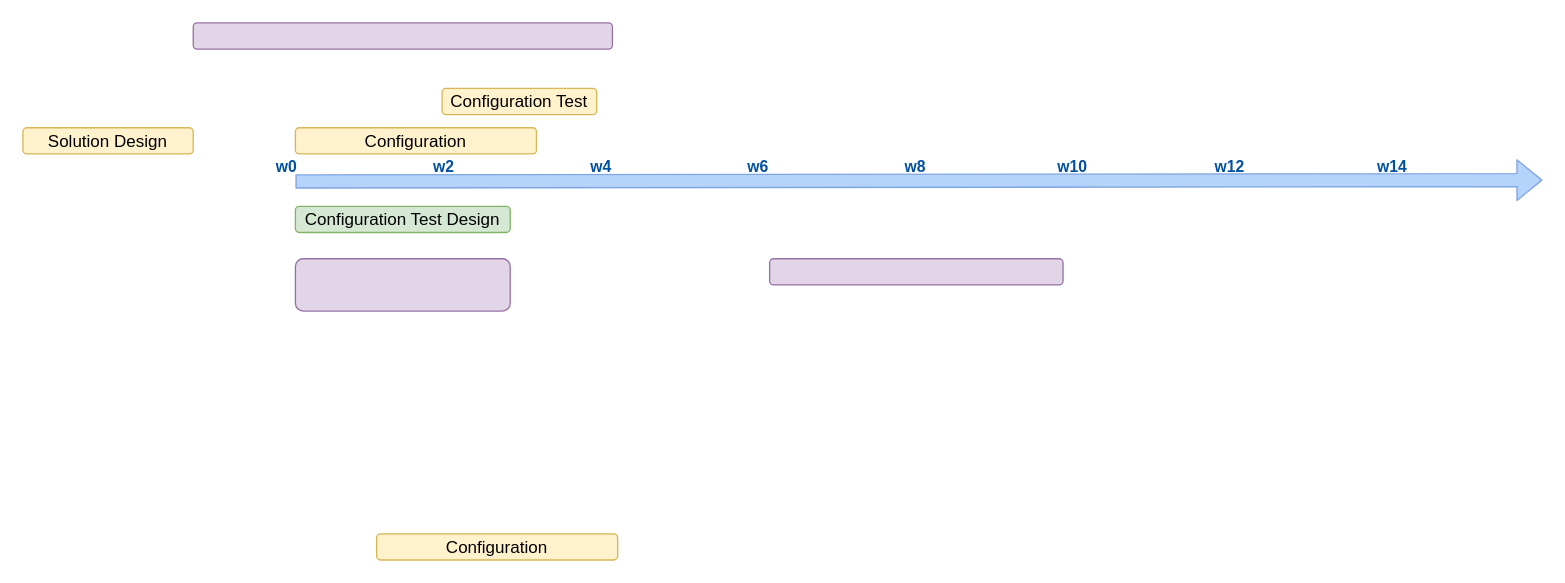
The diagram is 1565 pixels wide and 583 high, and some of its shapes have lost their labels. Here are the shapes that lost their labels. From the top down, the centre of each, then its label:
At (402,35): "Customer Extension Development".
At (402,284): "Customer Extension Test Design".
At (915,271): "Customer Extension Test".
